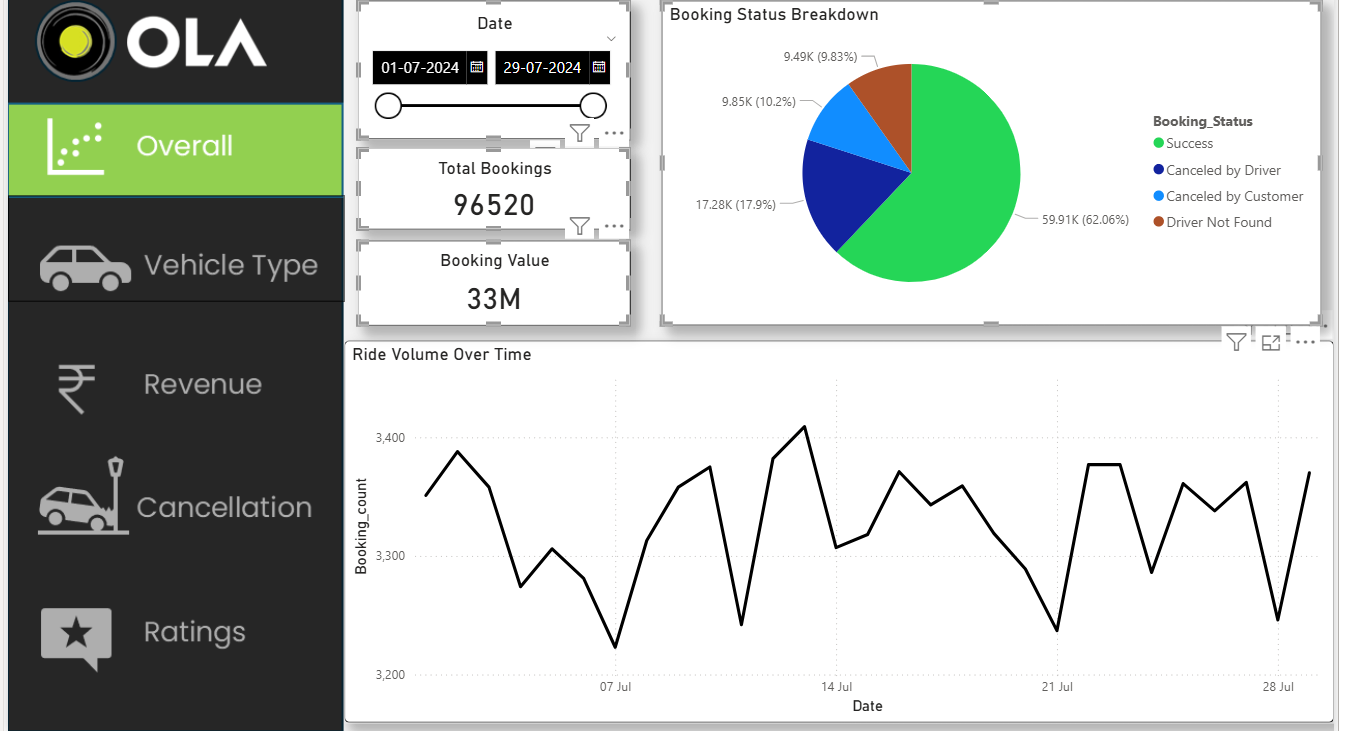

The page's visual inventory and layout, read from the dashboard file:
{"tool":"powerbi","page":{"name":"Overall","canvas":[1280,720],"ordinal":0},"visuals":[{"type":"actionButton","box":[0,200.3,324.5,102.5],"z":0},{"type":"actionButton","box":[0,445.2,324.5,98.9],"z":1000},{"type":"actionButton","box":[0,325.7,324.5,91.7],"z":2000},{"type":"actionButton","box":[0,575.5,324.5,91.7],"z":3000},{"type":"lineChart","title":"Ride Volume Over Time","fields":{"Y":["CountNonNull(July.Booking_ID)"],"Category":["July.Date"]},"box":[324.5,340.2,955.5,369.2],"z":4000},{"type":"pieChart","title":"Booking Status Breakdown","fields":{"Category":["July.Booking_Status"],"Y":["CountNonNull(July.Booking_Status)"]},"box":[631,12.1,637,313.7],"z":5000},{"type":"slicer","title":"Date","fields":{"Values":["July.Date"]},"box":[337.8,12.1,263,133.9],"z":6000},{"type":"card","title":"Total Bookings","fields":{"Values":["CountNonNull(July.Booking_ID)"]},"box":[337.8,154.4,263,78.4],"z":7000},{"type":"card","title":"Booking Value","fields":{"Values":["Sum(July.Booking_Value)"]},"box":[337.8,243.7,263,82],"z":8000}]}

Visuals, with their boxes on the page's 1280x720 design canvas (x1, y1, x2, y2). These are canvas units, not pixel positions in the 1346x731 screenshot, which may show the page scaled, cropped or inside an application window:
actionButton: locate(0, 200, 324, 303)
actionButton: locate(0, 445, 324, 544)
actionButton: locate(0, 326, 324, 417)
actionButton: locate(0, 576, 324, 667)
"Ride Volume Over Time" lineChart: locate(324, 340, 1280, 709)
"Booking Status Breakdown" pieChart: locate(631, 12, 1268, 326)
"Date" slicer: locate(338, 12, 601, 146)
"Total Bookings" card: locate(338, 154, 601, 233)
"Booking Value" card: locate(338, 244, 601, 326)
